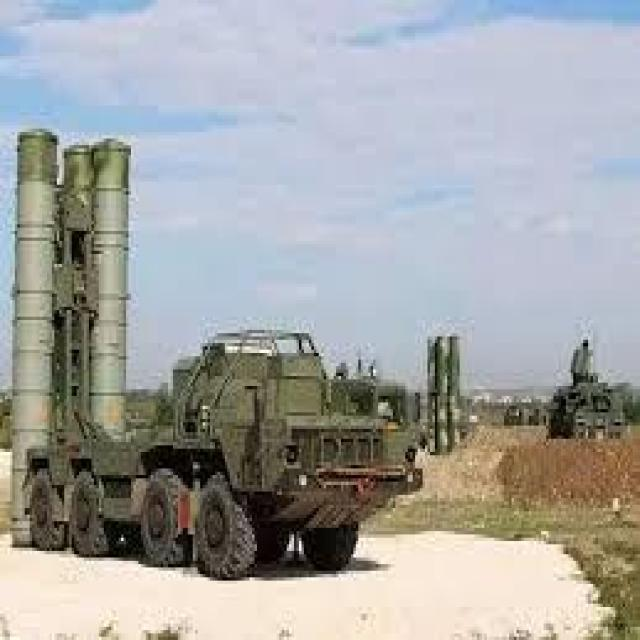MIL_MBT: (12, 114, 427, 562), (429, 322, 626, 457)
